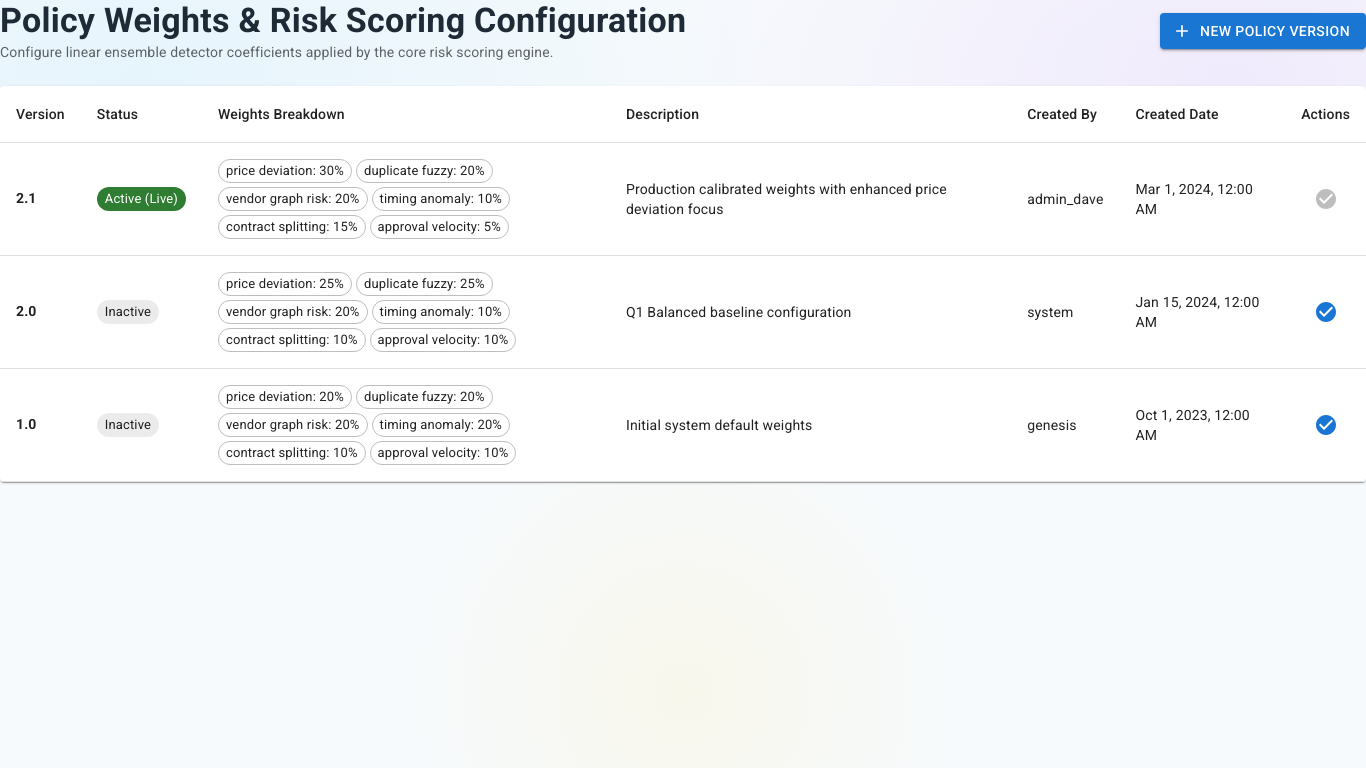
Test: PolicyManagement Component › opens new policy creation dialog
The width and height of the screenshot is (1366, 768).
Click the button "New Policy Version": {"x": 1263, "y": 31} x1=1160 y1=13 x2=1365 y2=49
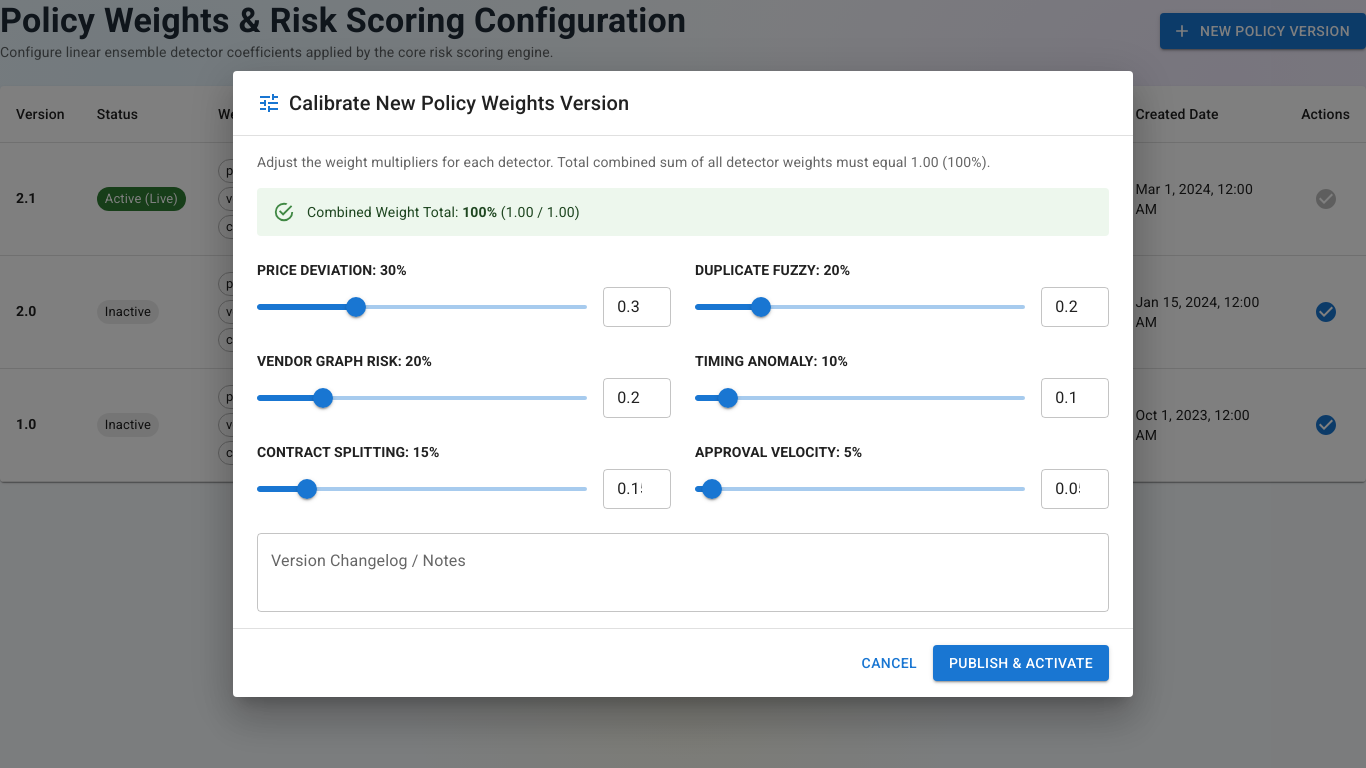
Check: the heading "Calibrate New Policy Weights Version" is shown, box x1=289 y1=87 x2=629 y2=119
Check: the text "Combined Weight Total: 100% (1.00 / 1.00)" is shown, box x1=307 y1=204 x2=580 y2=220
